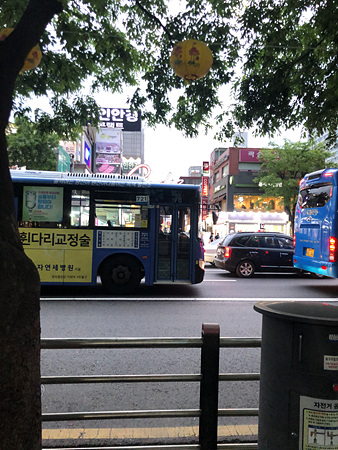entrance: (154, 198, 195, 287)
